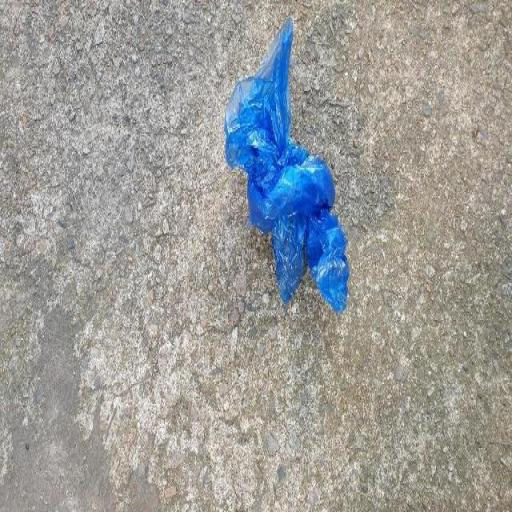plastic-bag: (222, 16, 351, 314)
